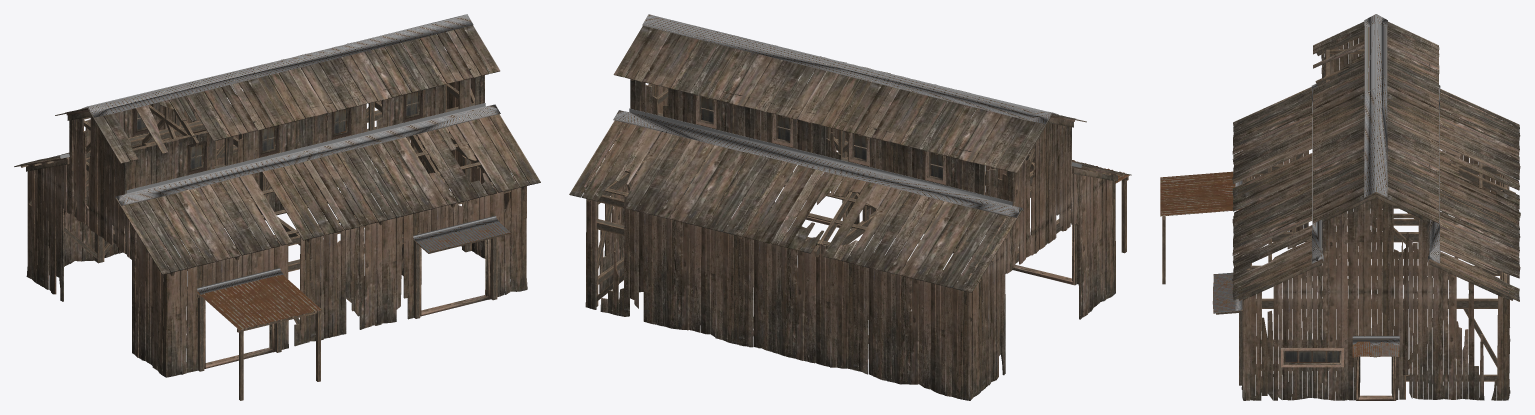
The model's file is wooden_building_a.glb.
3 renders of one model, left to right at view 1: azimuth 30°, elevation 25°; view 2: azimuth 150°, elevation 25°; view 3: azimuth 270°, elevation 25°, orthographic. The views are drawn at different scales.
Parts seen in each view (by area): view 1: wooden_building_a_LOD0; view 2: wooden_building_a_LOD0; view 3: wooden_building_a_LOD0.
Part boxes in pixels (bbox=[...]): wooden_building_a_LOD0: bbox=[14, 14, 540, 400]; wooden_building_a_LOD0: bbox=[569, 14, 1131, 400]; wooden_building_a_LOD0: bbox=[1160, 14, 1520, 400].
Bounding box in the file's own units: 16.15 × 8.88 × 13.58.
Materials: 5 (5 with a texture image).
